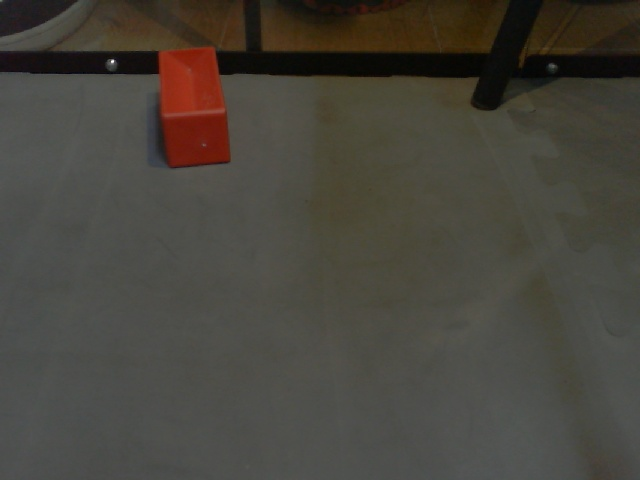RedSample: (154, 44, 234, 168)
